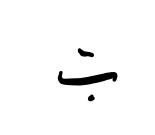div: (55, 47, 119, 102)
